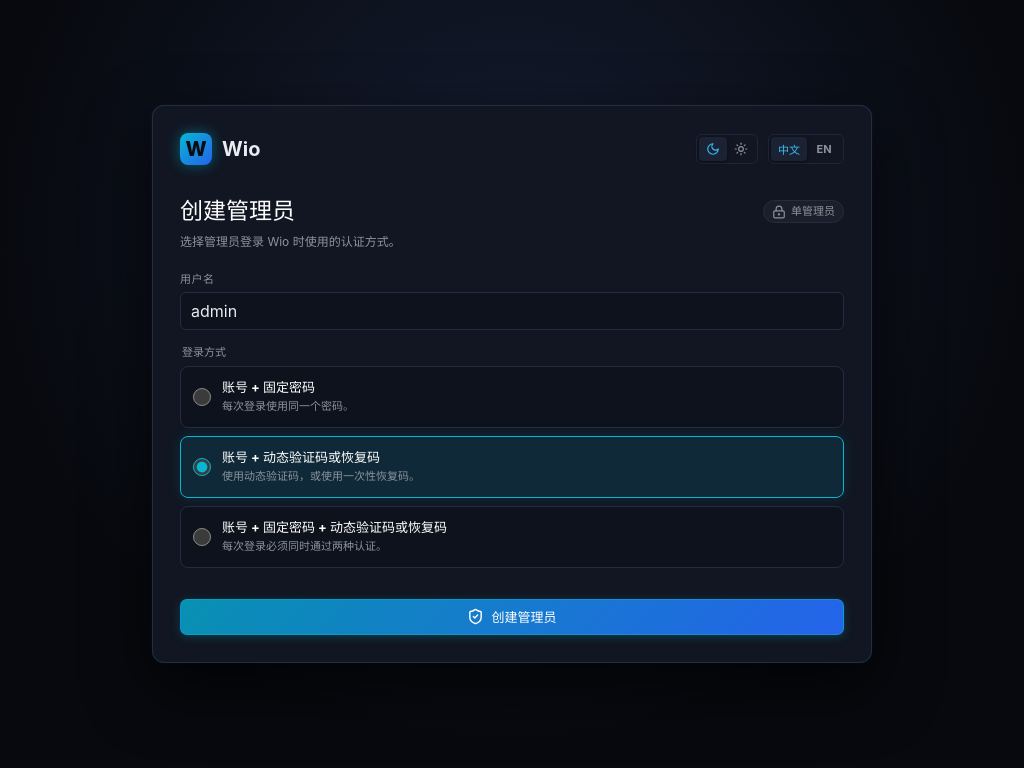
Scenario: submits password mode and shows the completion state
Click the radio button labelled "账号 + 固定密码 每次登录使用同一个密码。". click: (202, 397)
box: [193,388,211,406]
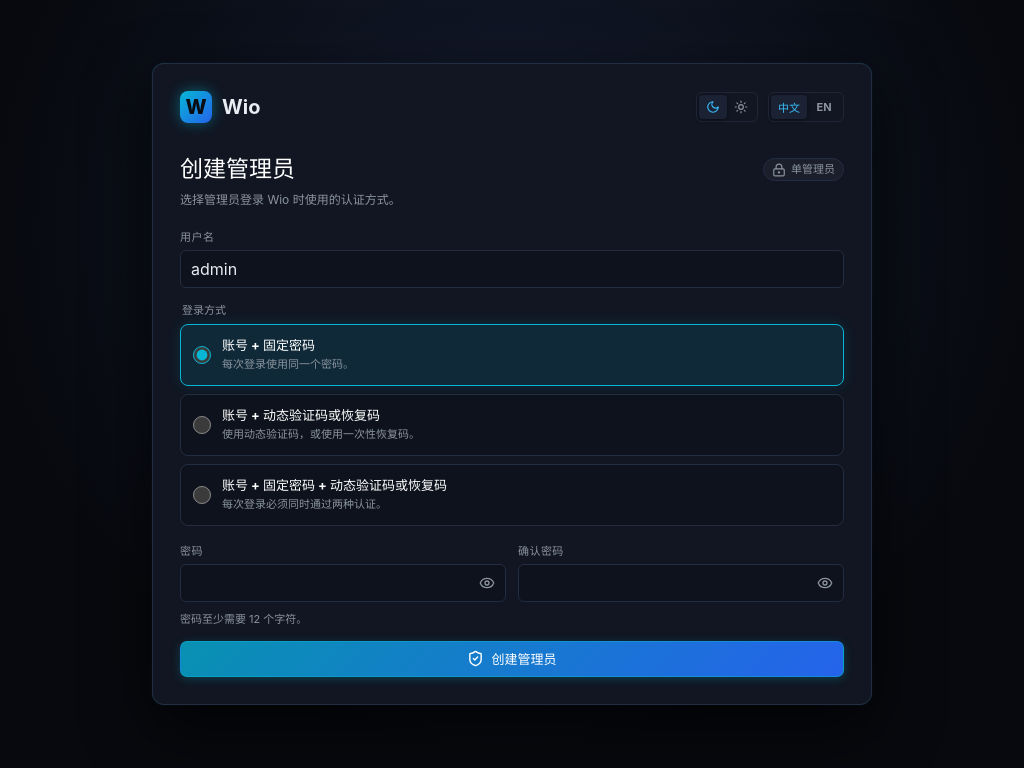
Type "correct-horse-battery-staple" into the password field labelled "密码". click: (343, 583)
box: [180,564,506,602]
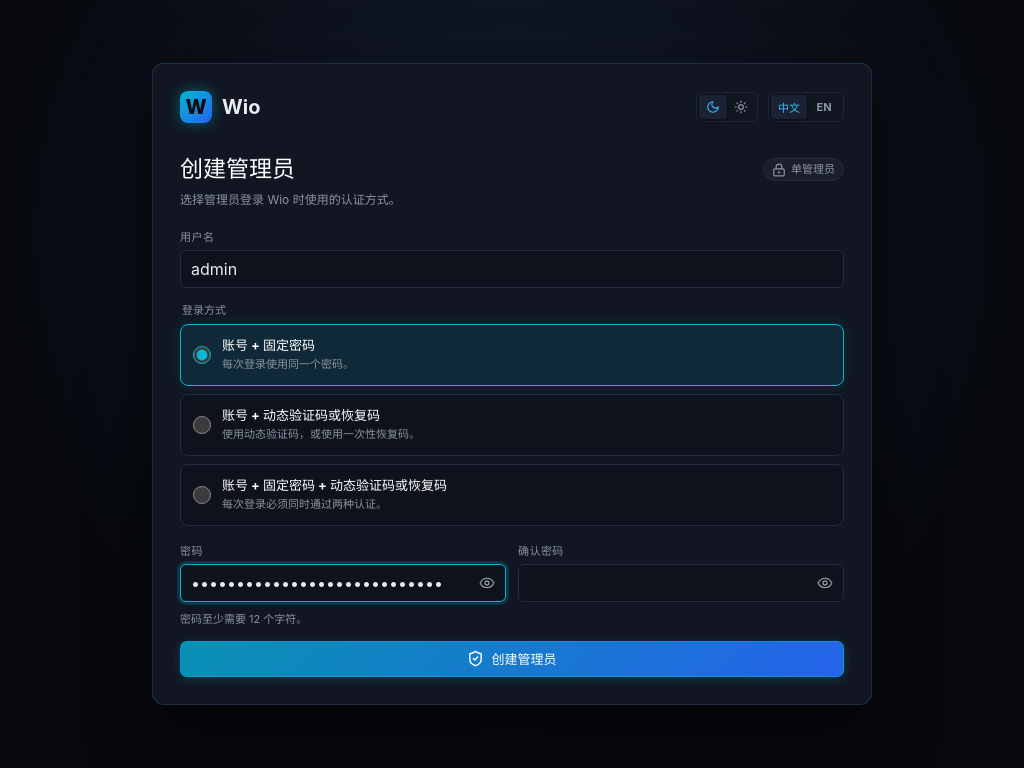
Type "correct-horse-battery-staple" into the password field labelled "确认密码". click: (681, 583)
box: [518,564,844,602]
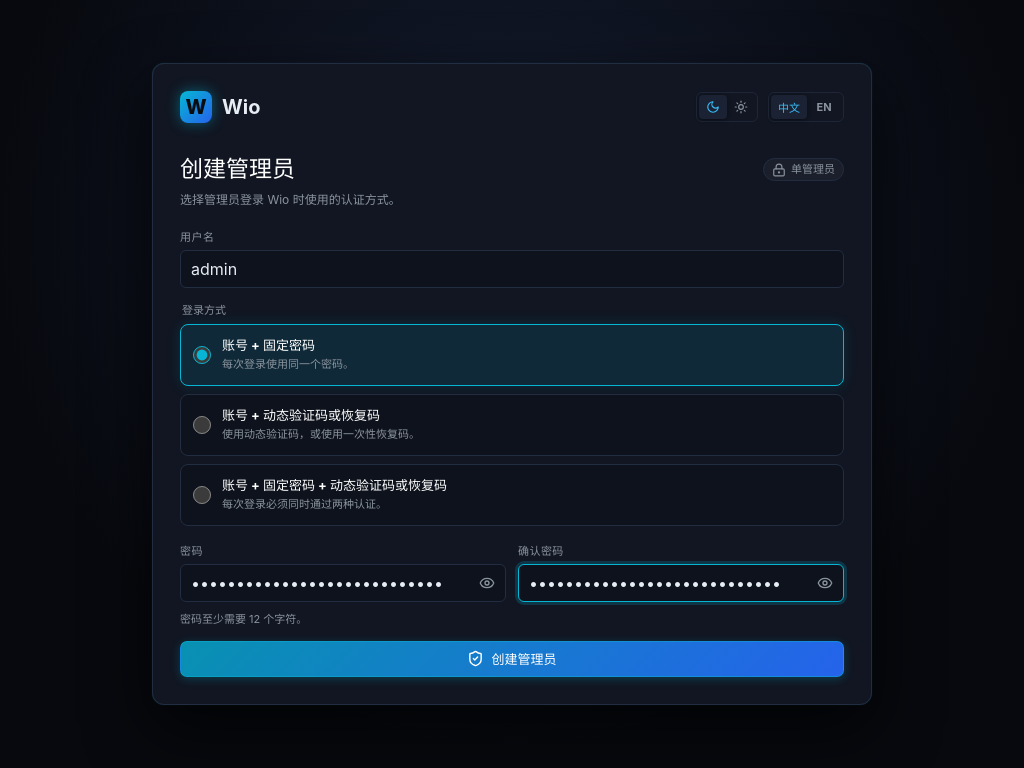
Click the button "创建管理员". click: (512, 659)
box: [180,641,844,677]
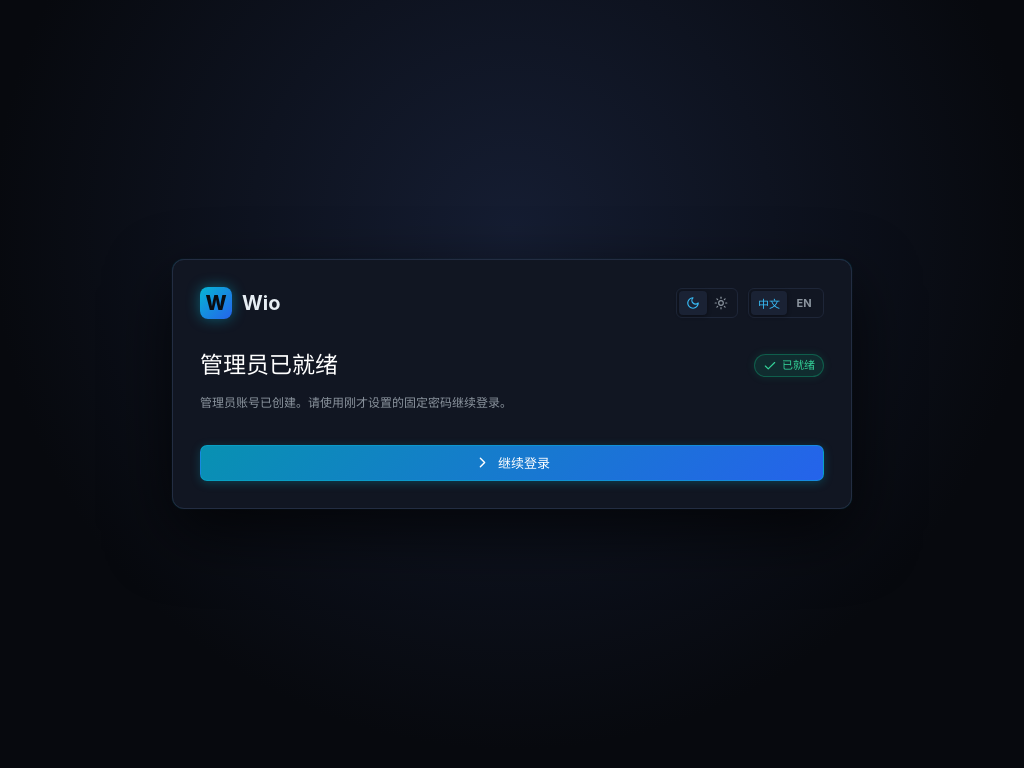
Check: the heading "管理员已就绪" is shown, box [200,351,338,380]
